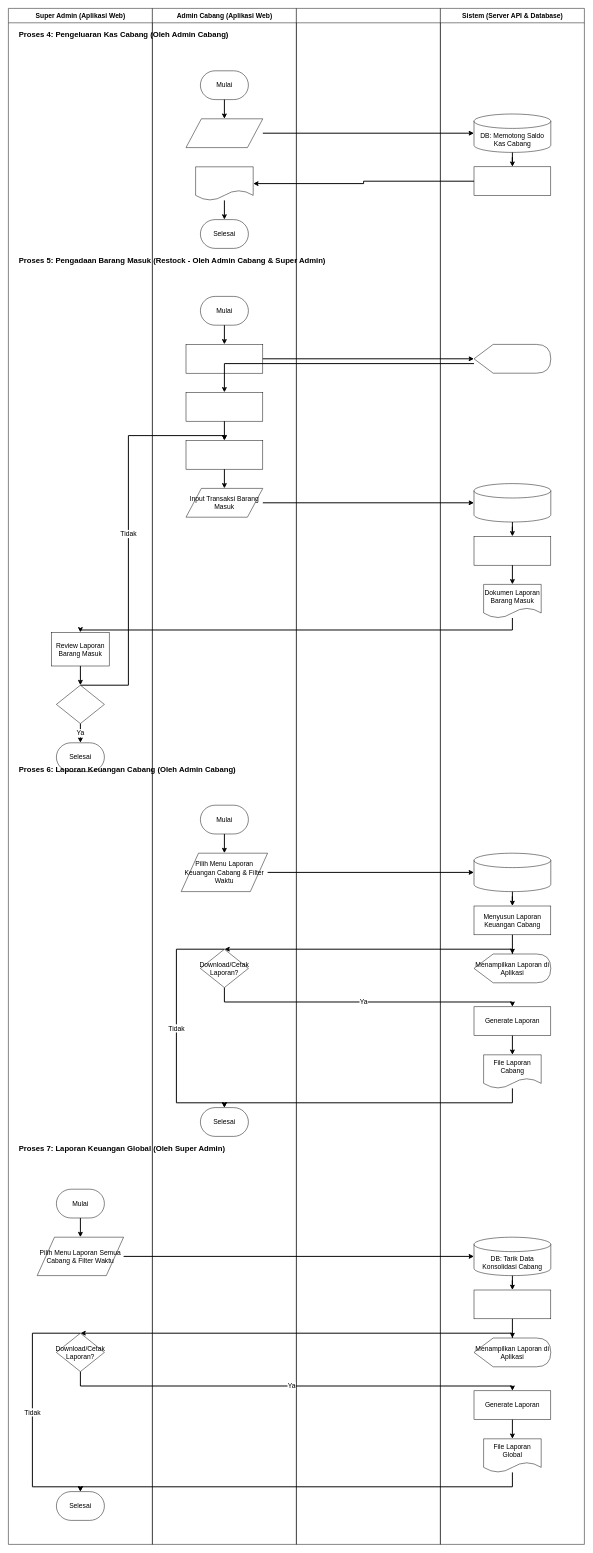
This 593x1553 diagram has some shape labels left out. The centre of each missing label's shape, as x and y in pixels:
"Cek Sisa Stok Barang di Sistem" goes at point 224,358.
"Cetak Bukti Pengeluaran" goes at point 224,183.
"DB: Menyimpan Penambahan Stok" goes at point 512,502.
"DB: Tarik Data Transaksi & Kas" goes at point 512,872.
"Disetujui?" goes at point 80,704.
"Generate Bukti Pengeluaran" goes at point 512,181.
"Generate Laporan Barang Masuk" goes at point 512,550.
"Input Kas Keluar (Nominal & Keterangan)" goes at point 224,133.
"Karyawan / Kasir (Aplikasi Mobile)" goes at point 368,776.
"Melakukan Pemesanan ke Supplier" goes at point 224,406.
"Menampilkan Daftar Barang < Safety Stock" goes at point 512,358.
"Menerima & Verifikasi Fisik Barang" goes at point 224,454.
"Menyusun Laporan Keuangan Keseluruhan" goes at point 512,1304.
